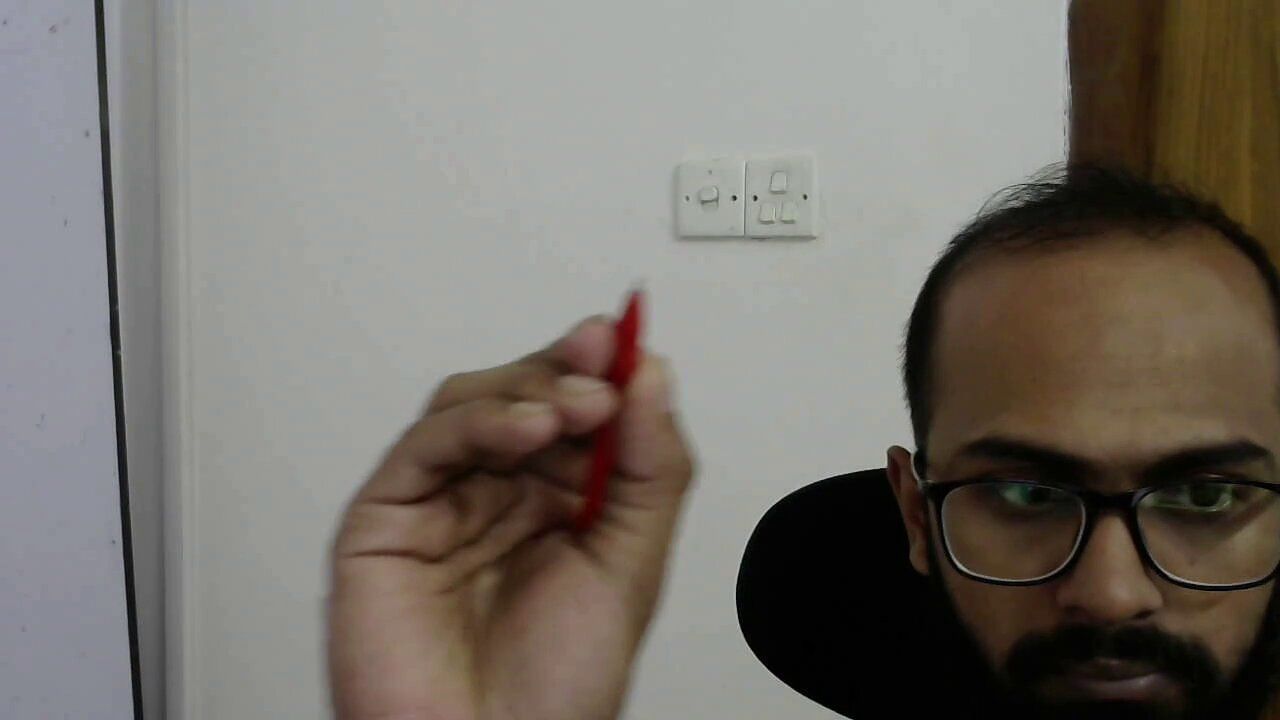pointer: (324, 299, 701, 652)
